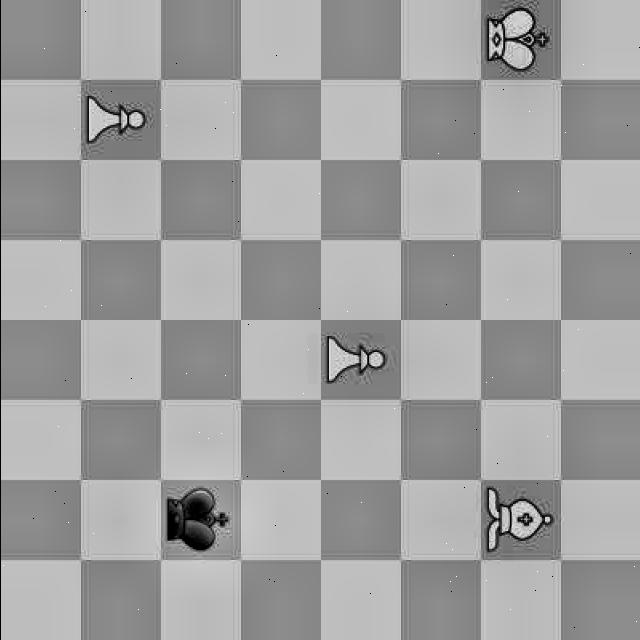black king: (165, 480, 237, 551)
white bishop: (482, 478, 566, 554)
white king: (480, 2, 560, 74)
white pawn: (81, 86, 147, 152), (318, 329, 386, 392)
